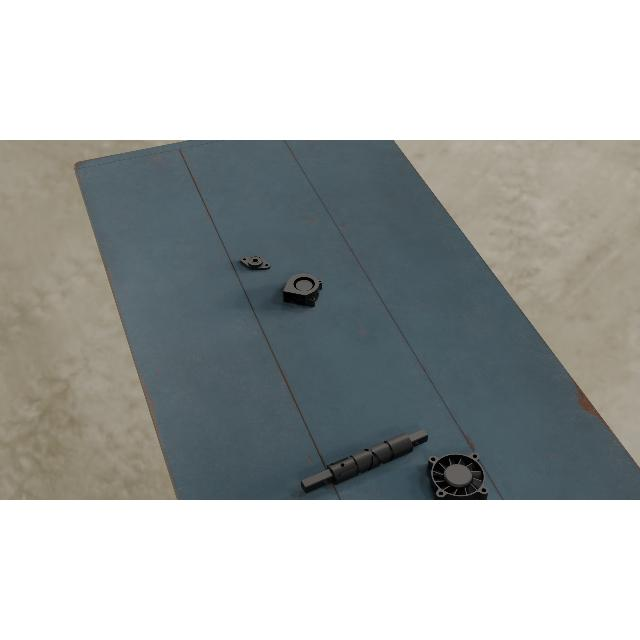Pieza1: (298, 422, 432, 500)
Pieza2: (236, 251, 274, 273)
Pieza3: (282, 271, 324, 309)
Pieza4: (426, 452, 490, 500)
